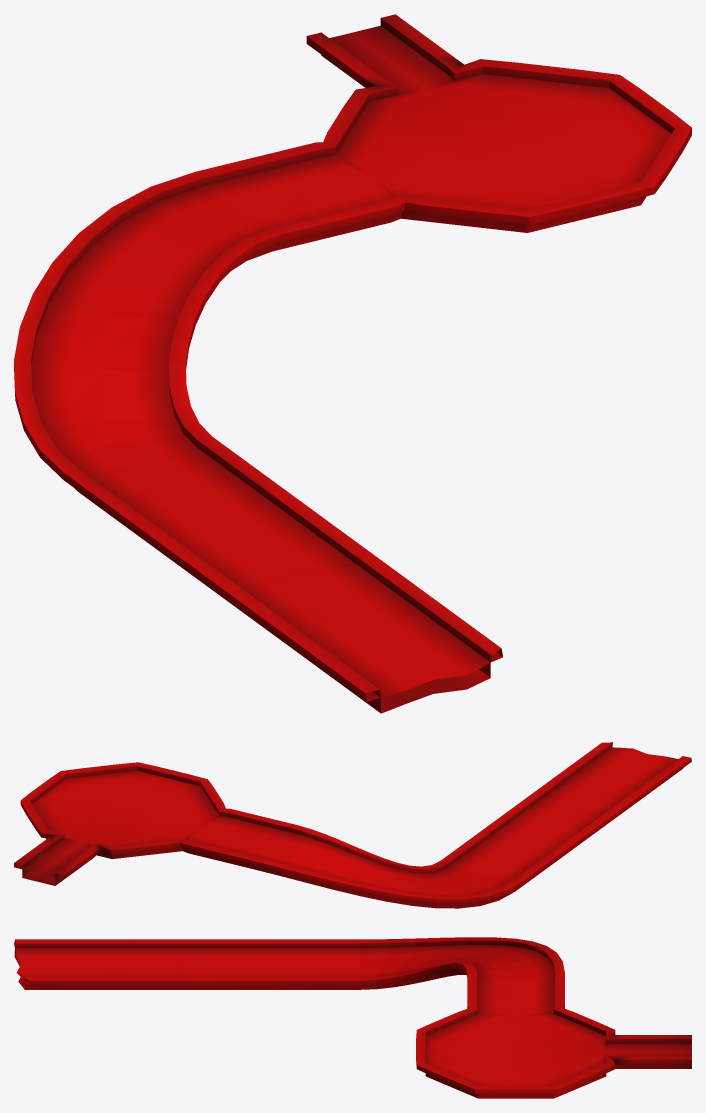
Rendered from Bridge.obj.
3 views of the same model, one above another, from view 1: azimuth 30°, elevation 25°; view 2: azimuth 150°, elevation 25°; view 3: azimuth 270°, elevation 25° (orthographic). The views are drawn at different scales.
Visible parts, largest first — view 1: Bridge; view 2: Bridge; view 3: Bridge.
Boxes of the visible parts, box(x1,y1,x2,y2) form: Bridge: box(14, 14, 691, 713); Bridge: box(14, 742, 691, 908); Bridge: box(14, 937, 691, 1098).
Bounding box in the file's own units: 24.62 × 3.75 × 34.69.
